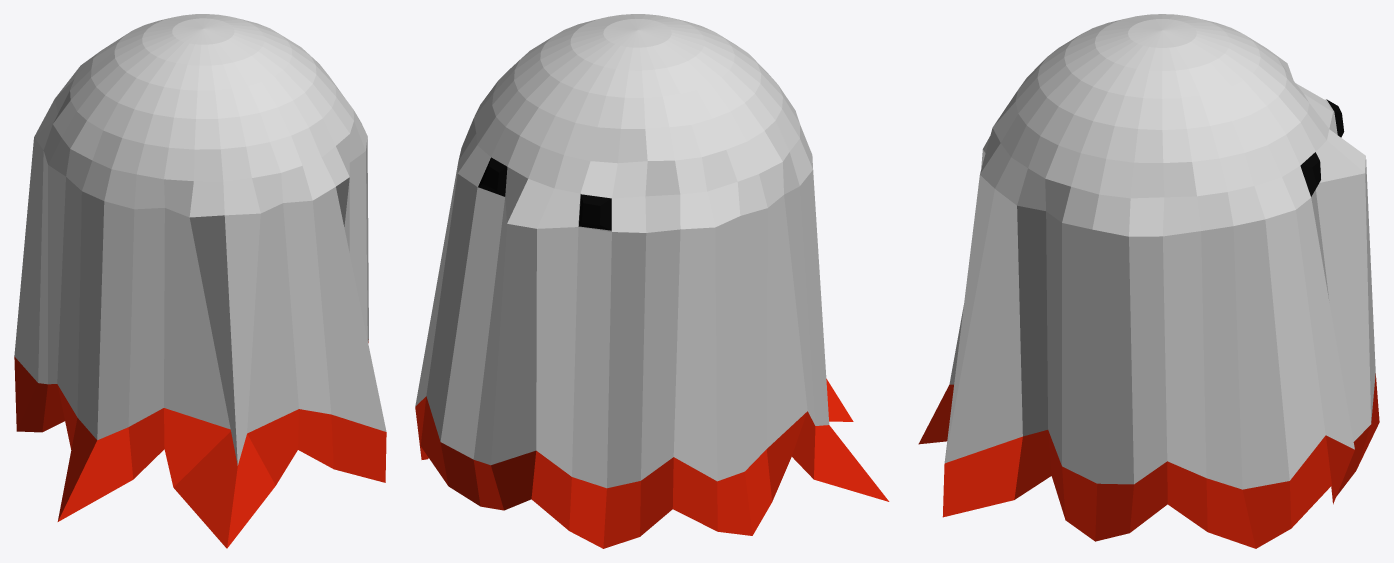
Rendered from Duch.fbx.
3 renders of one model, left to right at view 1: azimuth 30°, elevation 25°; view 2: azimuth 150°, elevation 25°; view 3: azimuth 270°, elevation 25°, orthographic. The views are drawn at different scales.
Visible parts, largest first — view 1: Kula; view 2: Kula; view 3: Kula.
Boxes of the visible parts, x1,y1,x2,y2 form: Kula: [14, 14, 386, 548]; Kula: [415, 14, 889, 548]; Kula: [918, 14, 1379, 548].
Size of the model in its own units: 247 by 288 by 261.
